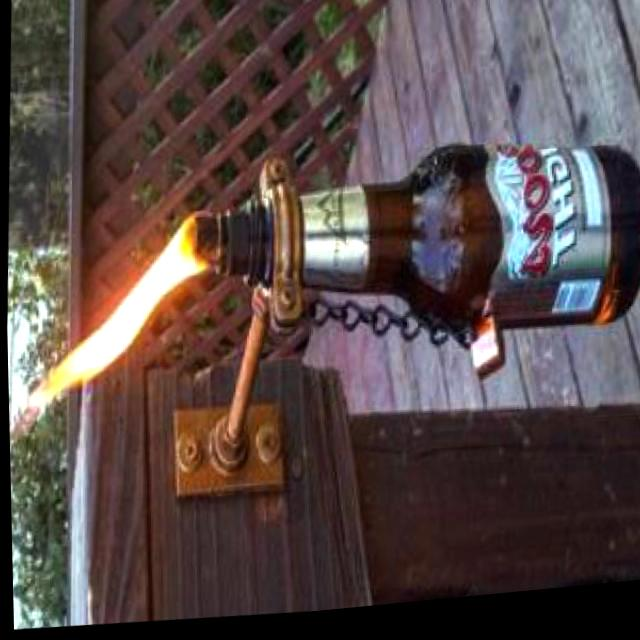fire: (13, 195, 215, 432)
